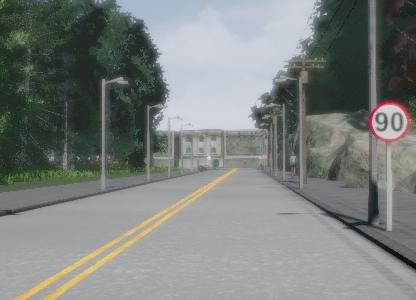Speed_90: (366, 96, 410, 146)
